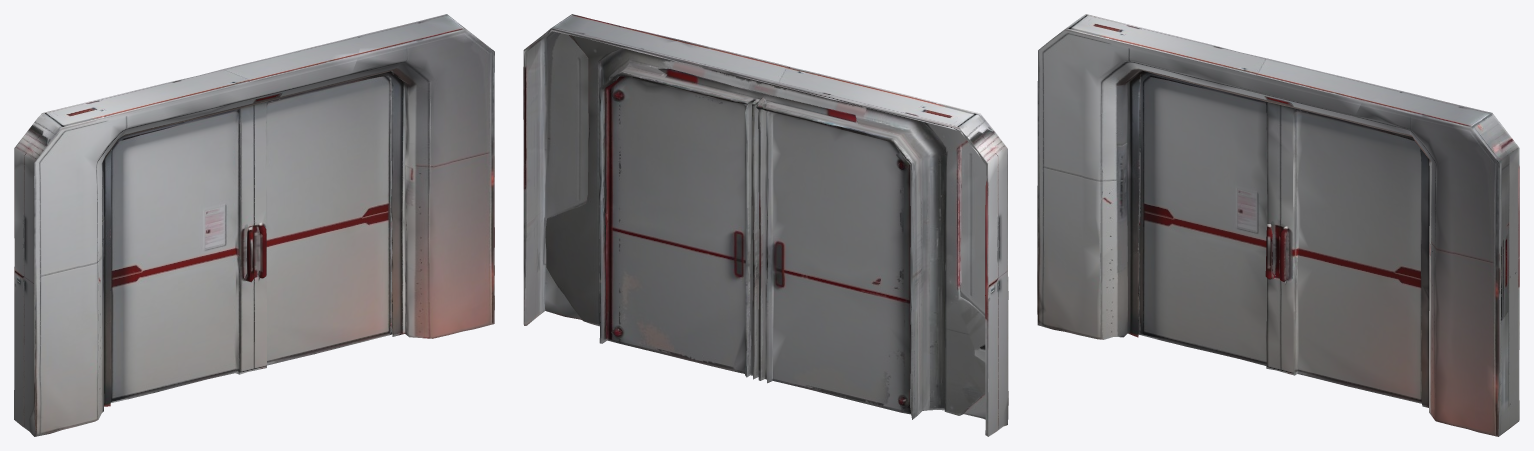
File: door.glb
3 views of the same model, side by side, from view 1: azimuth 30°, elevation 25°; view 2: azimuth 150°, elevation 25°; view 3: azimuth 330°, elevation 25° (orthographic).
Parts seen in each view (by area): view 1: door; view 2: door; view 3: door.
Part boxes in pixels (<box>): door: <box>14,14,494,436</box>; door: <box>523,14,1008,436</box>; door: <box>1037,14,1519,436</box>.
Bounding box in the file's own units: 3.58 × 2.25 × 0.2946.
1 material, 1 textured.
